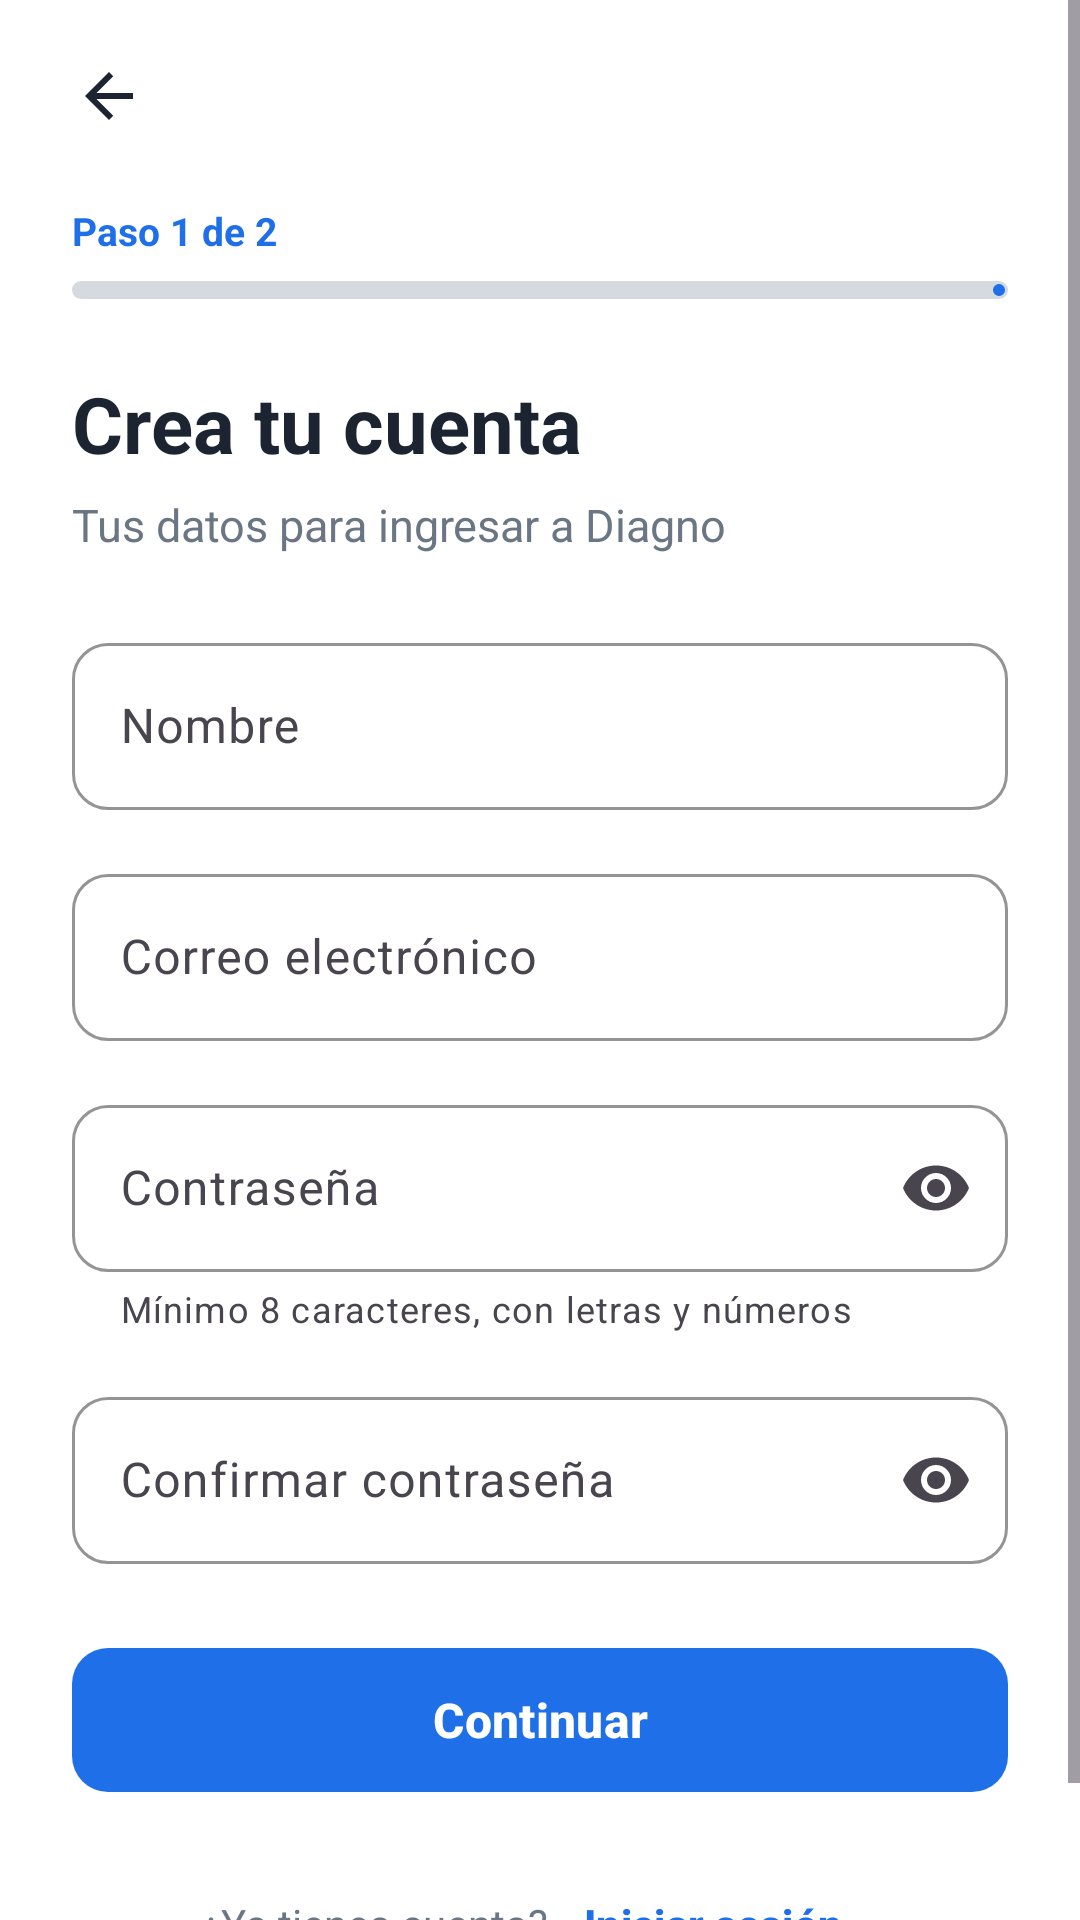

Locate icon controls on the screen. Image size 1080×1920, boxes as Rect(x1, y1, x2, y2).
Volver: Rect(85, 72, 133, 120)
